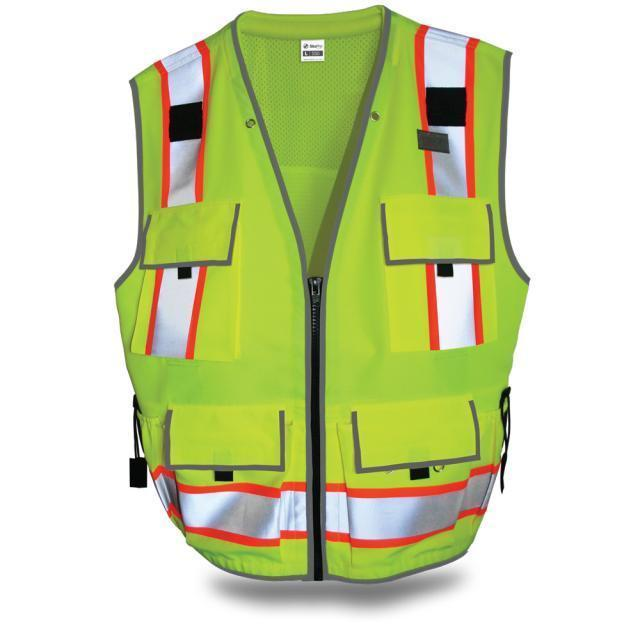safety_helmet: (108, 2, 535, 587)
